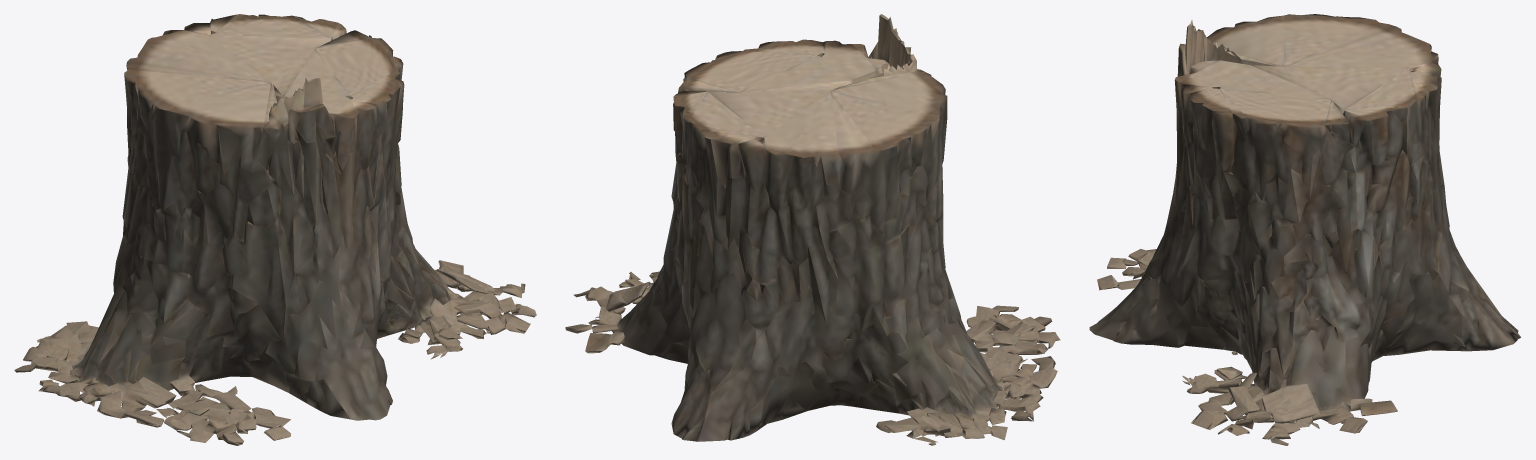
Rendered from stump.glb.
3 renders of one model, left to right at view 1: azimuth 30°, elevation 25°; view 2: azimuth 150°, elevation 25°; view 3: azimuth 270°, elevation 25°, orthographic. The views are drawn at different scales.
Visible parts, largest first — view 1: output_unwrapped; view 2: output_unwrapped; view 3: output_unwrapped.
Boxes of the visible parts, left/top/right/bottom form: output_unwrapped: left=14, top=14, right=536, bottom=445; output_unwrapped: left=565, top=14, right=1060, bottom=445; output_unwrapped: left=1089, top=14, right=1520, bottom=445.
Bounding box in the file's own units: 1.82 × 1.14 × 1.48.
Materials: 1 (1 with a texture image).
